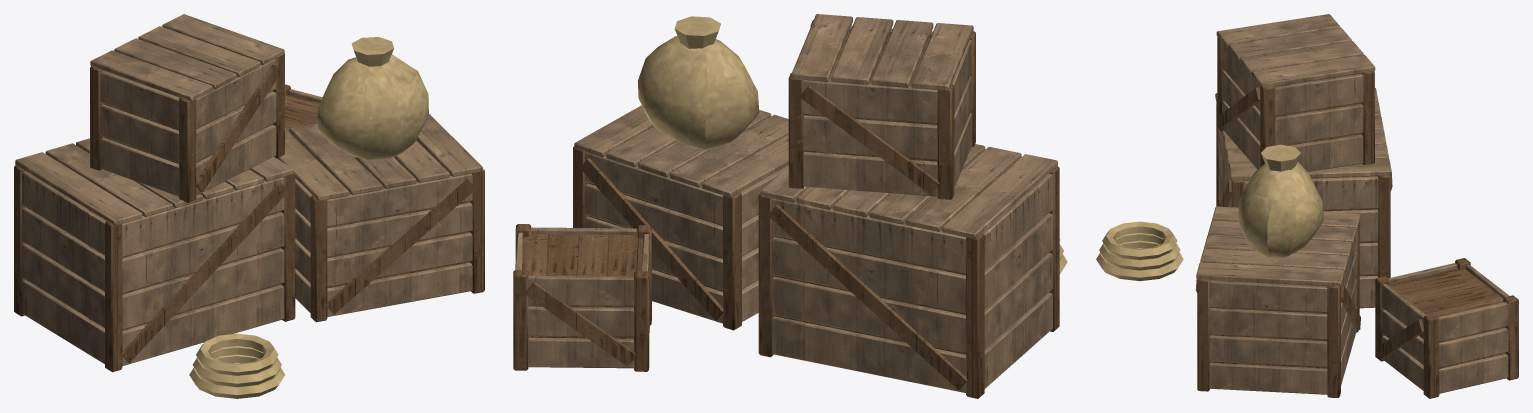
File: build_crates_t1.glb
3 renders of one model, left to right at view 1: azimuth 30°, elevation 25°; view 2: azimuth 150°, elevation 25°; view 3: azimuth 270°, elevation 25°, orthographic. The views are drawn at different scales.
Visible parts, largest first — view 1: wood, wood_dark, rope; view 2: wood, wood_dark, rope; view 3: wood, wood_dark, rope.
Part boxes in pixels (x1,y1,x2,y2): wood: [15, 14, 482, 365]; wood_dark: [14, 53, 484, 372]; rope: [189, 37, 428, 398]; wood: [515, 14, 1057, 392]; wood_dark: [513, 20, 1059, 398]; rope: [638, 16, 1067, 273]; wood: [1196, 14, 1509, 394]; wood_dark: [1195, 36, 1518, 398]; rope: [1096, 144, 1323, 281].
Size of the model in its own units: 1.64 by 1.03 by 1.68.
Materials: 3 (3 with a texture image).
